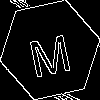M: (25, 25, 74, 78)
